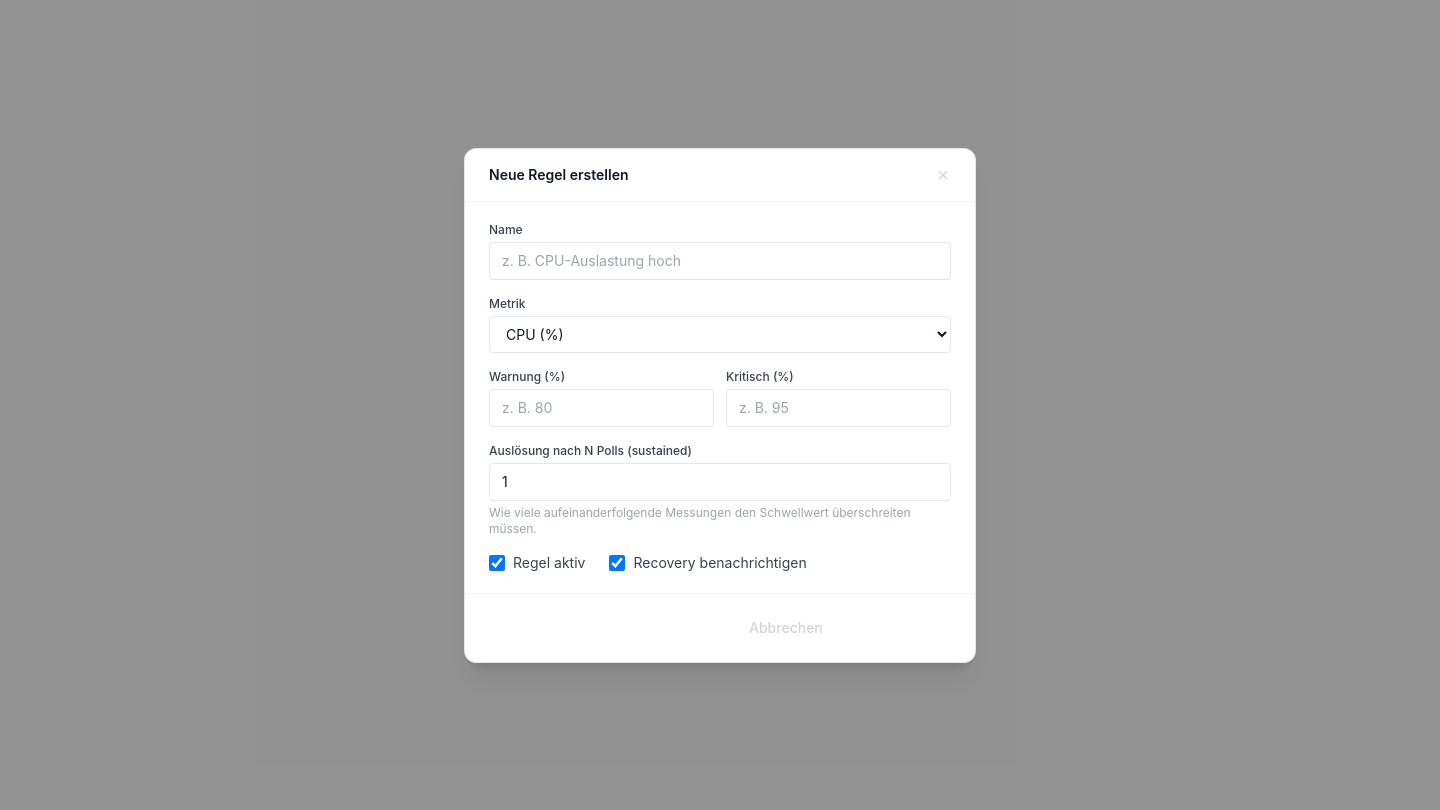
Test: AlertRuleFormModal › shows filesystem input only for disk_percent metric
Check: the text "Dateisystem (optional)" is not shown
Select "Disk (%)" in the dropdown at (720, 334), box left=489, top=316, right=951, bottom=352
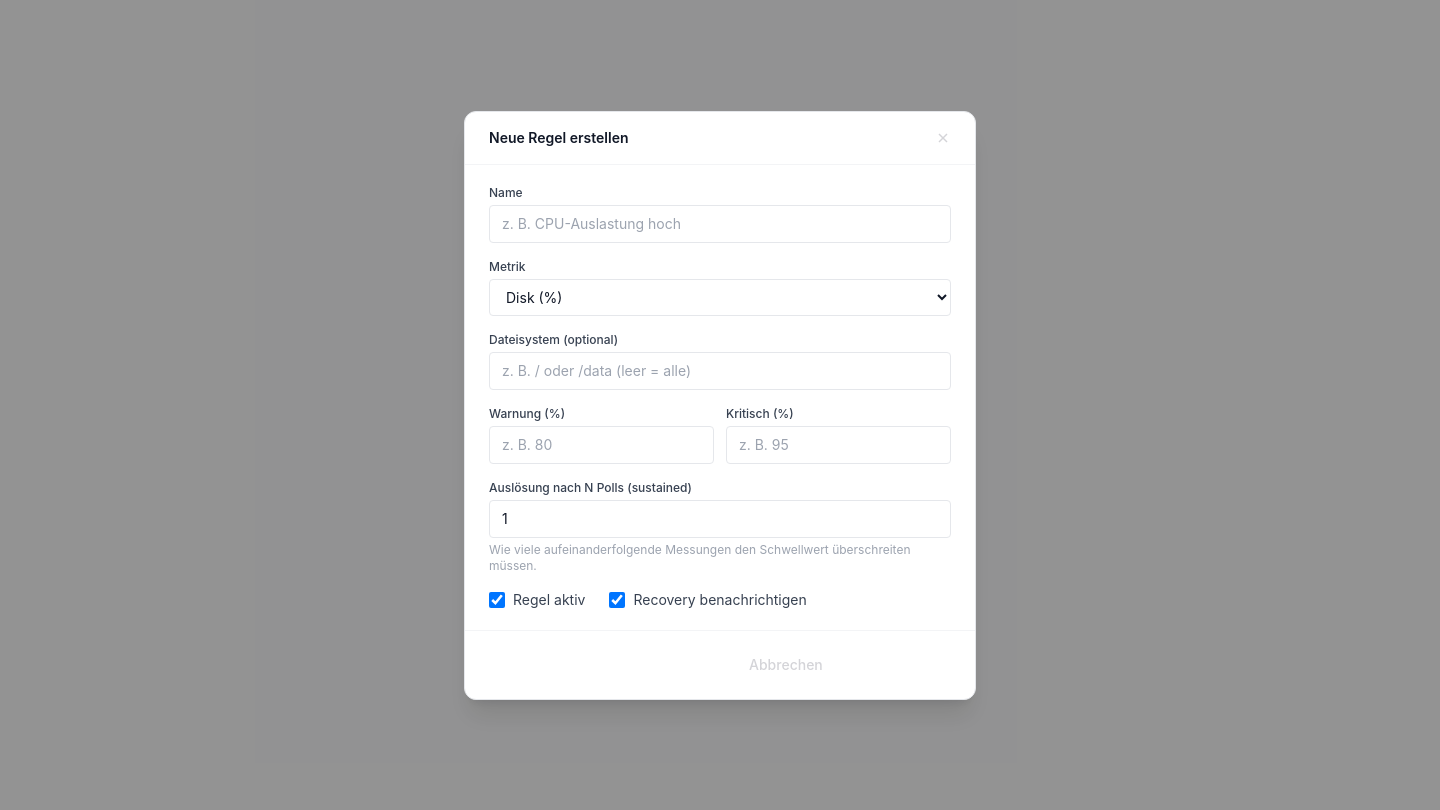
Check: the text "Dateisystem (optional)" is shown, box left=489, top=332, right=618, bottom=346
